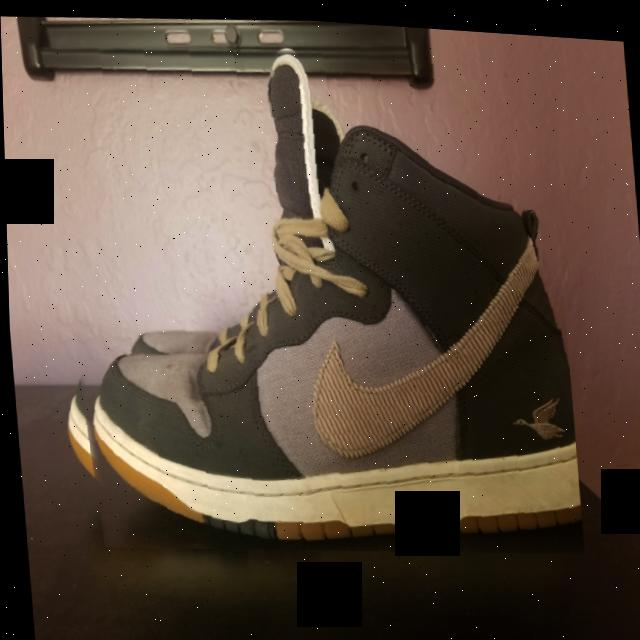shoe: (29, 13, 582, 573)
